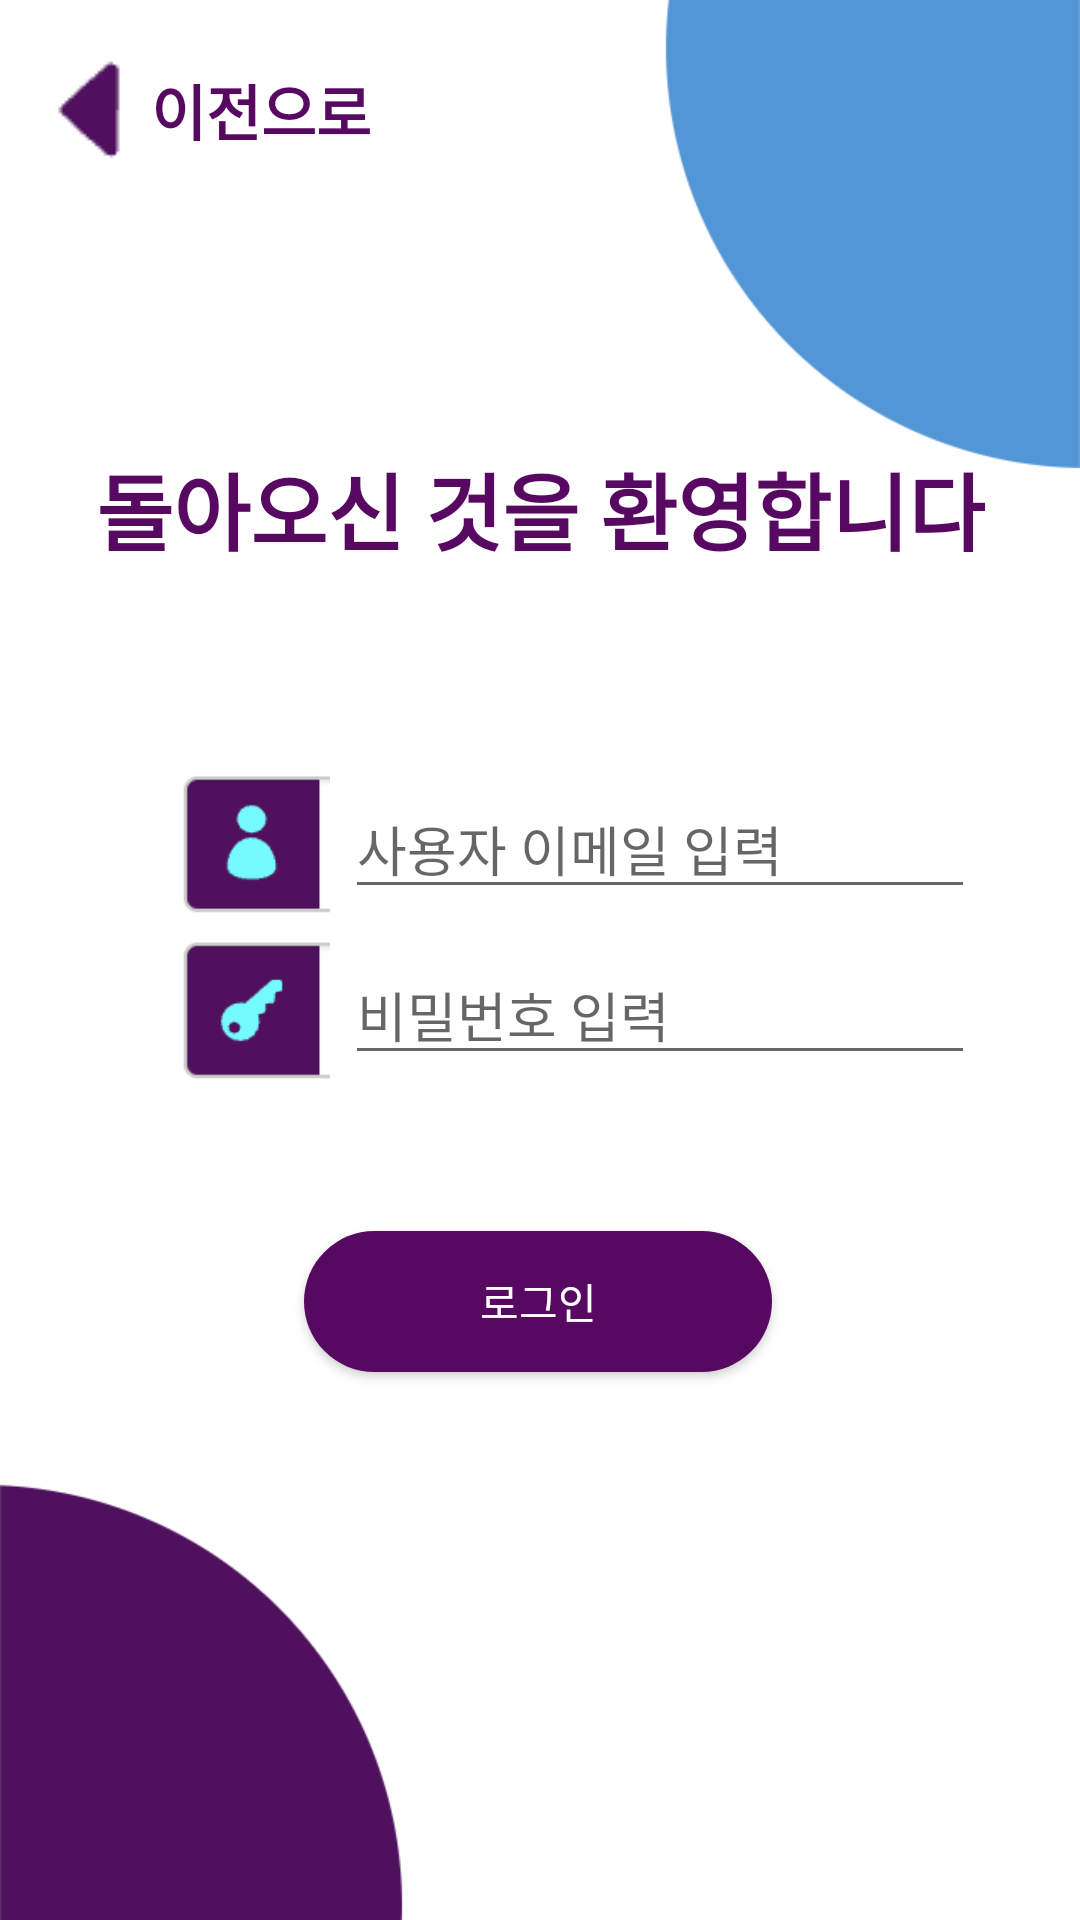

Icons on this 1080w x 1920h Android screen, each with the point to tap as (x,y):
previous: (89,109)
